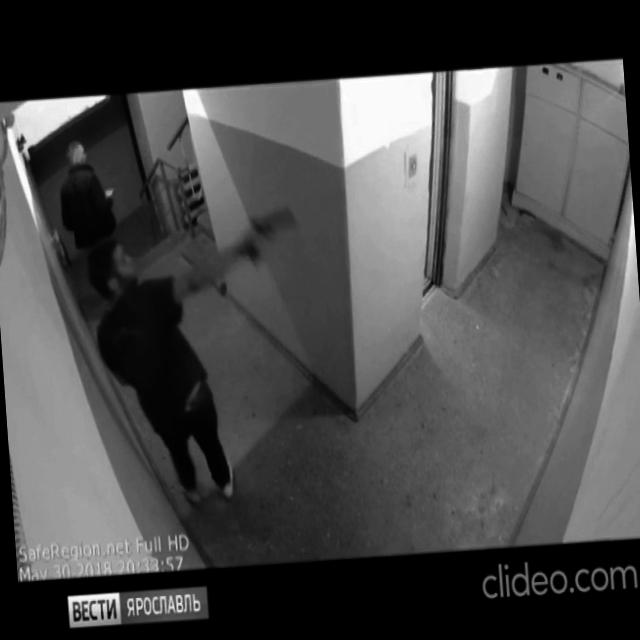gun: (233, 204, 300, 270)
person: (54, 132, 136, 318)
person with a gun: (81, 205, 318, 512)
